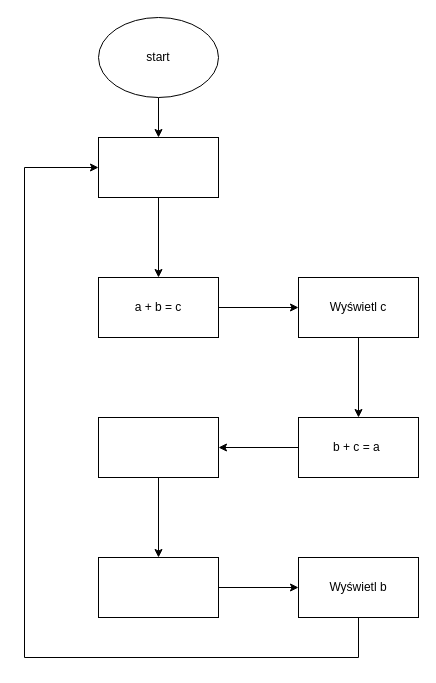
Some shapes in this 436 by 683 pixel diagram are drawn without their labels. The centre of each missing label's shape, as x and y in pixels:
"a + c = b" goes at point 158,587.
"Podaj a Podaj b" goes at point 158,167.
"Wyświetl a" goes at point 158,447.
